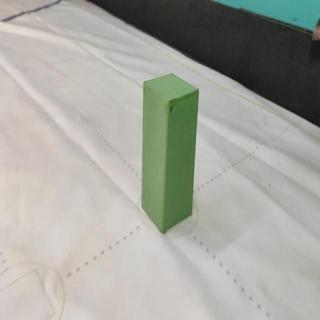greenbox: (140, 71, 199, 235)
